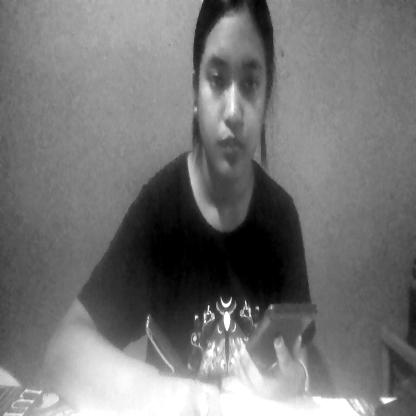Normal: (188, 5, 287, 201)
